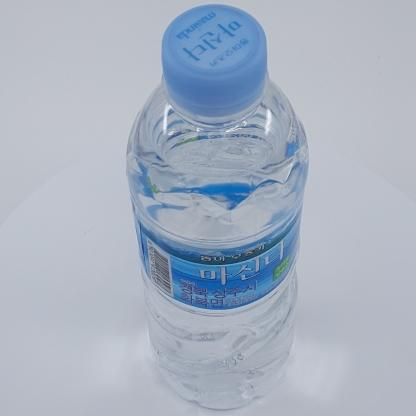-------------500ML: (125, 4, 309, 410), (372, 357, 373, 357)
